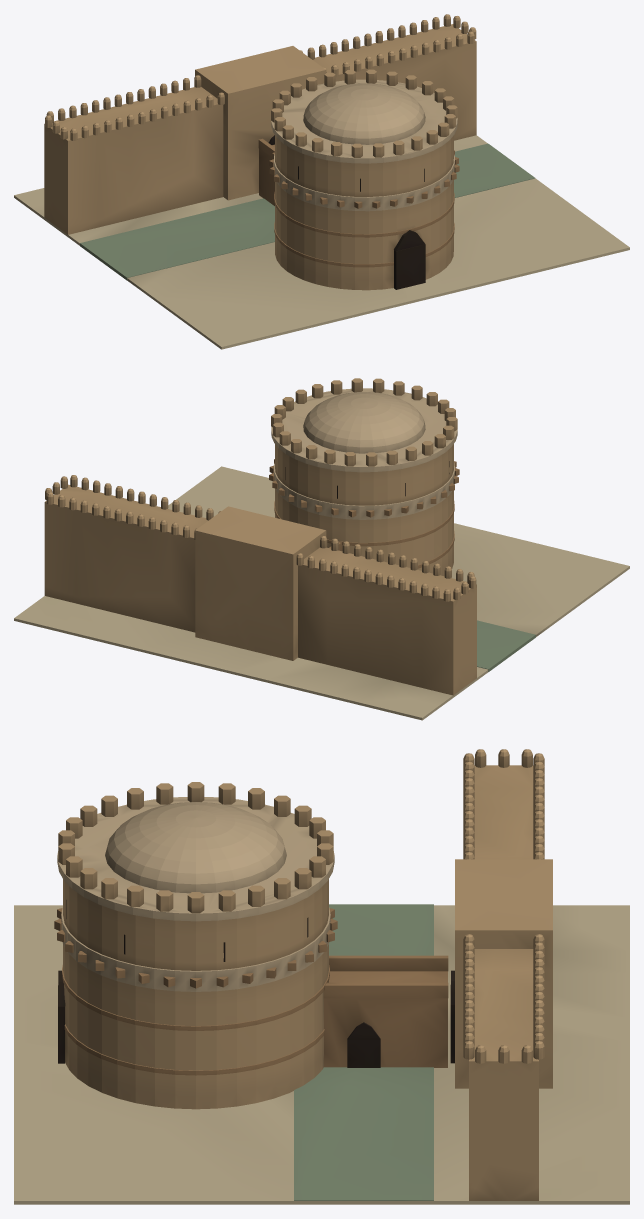
Rendered from wastani-gate.glb.
3 renders of one model, top to bottom at view 1: azimuth 30°, elevation 25°; view 2: azimuth 150°, elevation 25°; view 3: azimuth 270°, elevation 25°, orthographic. The views are drawn at different scales.
Visible parts, largest first — view 1: p0_ground, p1_wall and bridge, p2_tower, p3_roof; view 2: p1_wall and bridge, p0_ground, p2_tower, p3_roof; view 3: p0_ground, p2_tower, p1_wall and bridge, p3_roof.
Part boxes in pixels (x1,y1,x2,y2): p0_ground: (14, 135, 629, 349); p1_wall and bridge: (44, 14, 476, 234); p2_tower: (269, 69, 459, 290); p3_roof: (303, 83, 425, 144); p1_wall and bridge: (44, 475, 476, 695); p0_ground: (14, 466, 629, 720); p2_tower: (269, 378, 459, 576); p3_roof: (303, 392, 425, 453); p0_ground: (14, 904, 629, 1204); p2_tower: (54, 782, 337, 1109); p1_wall and bridge: (323, 749, 552, 1200); p3_roof: (105, 802, 286, 893).
Size of the model in its own units: 50.8 by 18.82 by 44.
